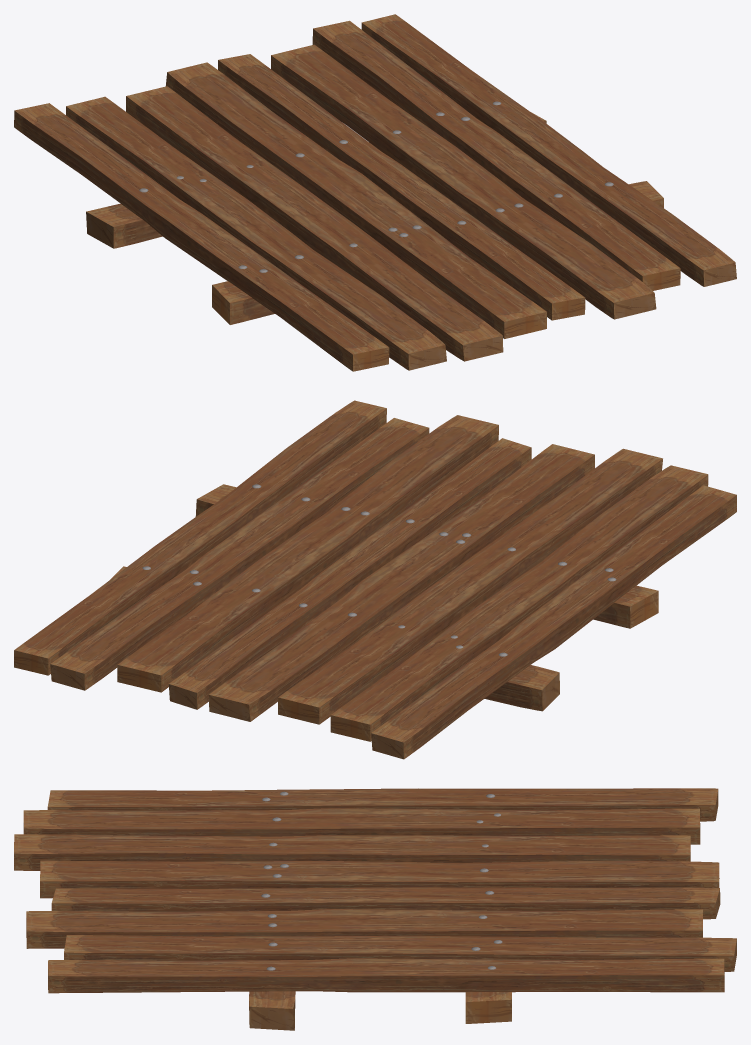
Rendered from SM_Farm_Scaffold_02.fbx.
The picture shows the model from 3 angles, top to bottom: view 1: azimuth 30°, elevation 25°; view 2: azimuth 150°, elevation 25°; view 3: azimuth 270°, elevation 25°; orthographic projection.
Visible parts, largest first — view 1: SM_Farm_Scaffold_02_LOD0; view 2: SM_Farm_Scaffold_02_LOD0; view 3: SM_Farm_Scaffold_02_LOD0.
Part boxes in pixels (left/top/right/bottom): SM_Farm_Scaffold_02_LOD0: left=14, top=14, right=736, bottom=371; SM_Farm_Scaffold_02_LOD0: left=14, top=400, right=736, bottom=759; SM_Farm_Scaffold_02_LOD0: left=14, top=788, right=736, bottom=1030.
Bounding box in the file's own units: 280 × 24.91 × 390.
